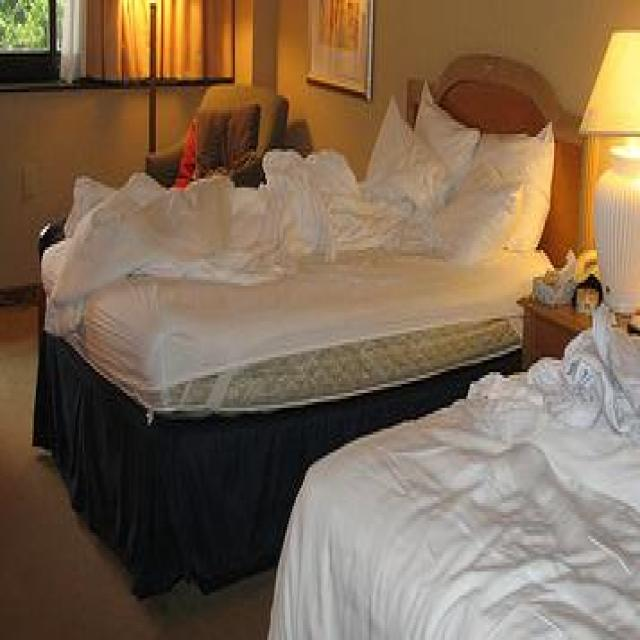bed: (31, 51, 584, 598)
